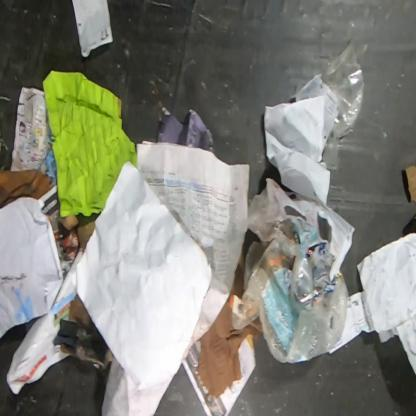cardboard: (52, 293, 114, 371), (0, 168, 54, 210), (77, 221, 95, 253), (405, 165, 415, 203)
soft_plastic: (230, 187, 350, 365), (321, 38, 365, 171)
